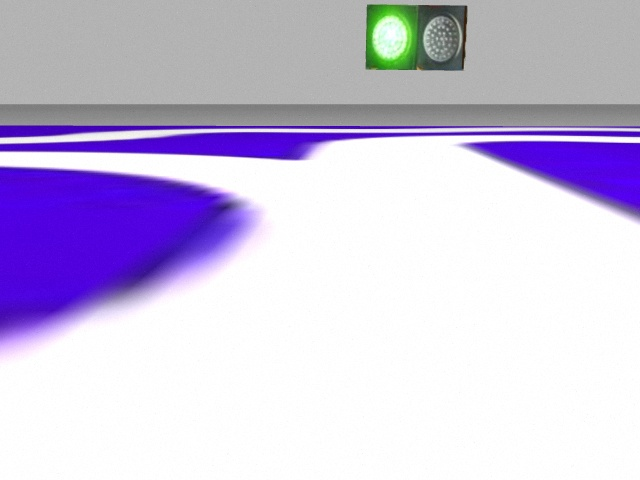green: (367, 5, 415, 71)
